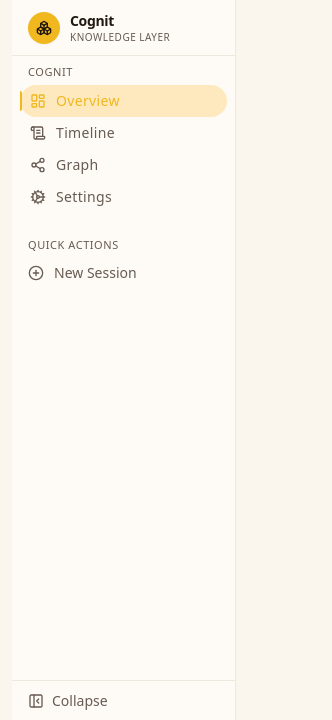
Test: Sidebar › toggles collapsed state via the toggle button
Check: the link "Overview" is shown, box [20,84,227,116]
Click the button with aria-label "collapse sidebar" at (124, 700), box [12,680,235,719]
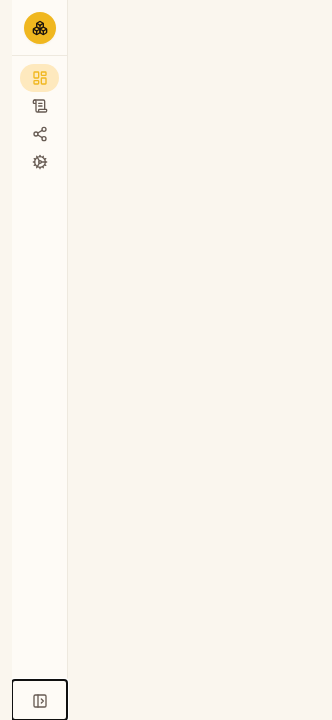
Check: the 1st link is shown, box [20,64,59,92]
Check: the text "Overview" is gone
Note: toggle back: Expand sidebar button now present
Click the button named "expand sidebar" at (40, 700), box [12,680,67,719]
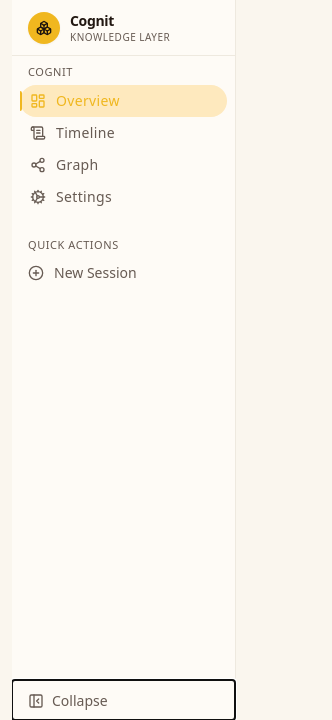
Check: the text "Overview" is shown, box [56,90,120,110]
